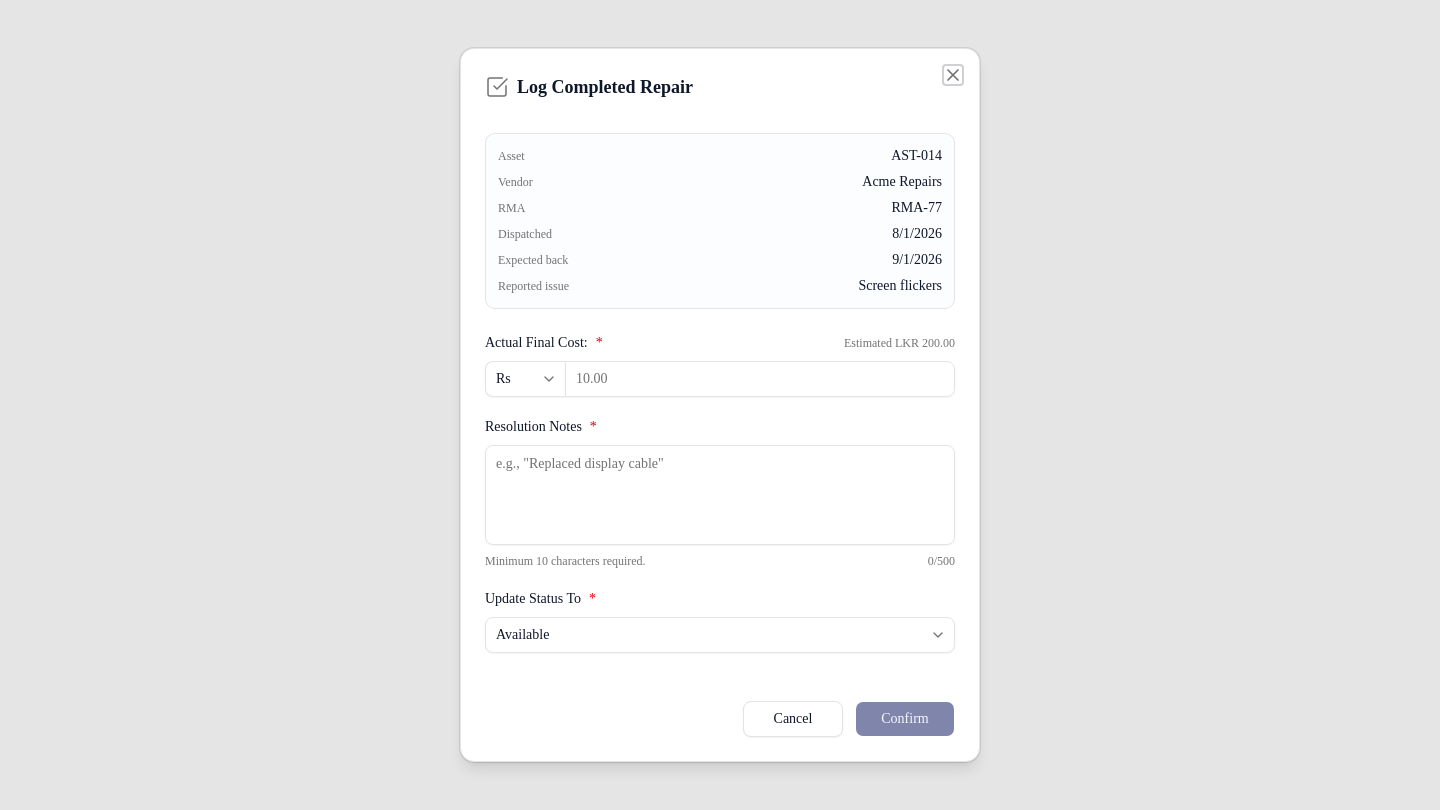
Test: LogCompleteRepairDialog › shows the ticket context and the variance against the estimate
Expected: the text "AST-014" is shown, [891, 146, 942, 166]
Expected: the text "Acme Repairs" is shown, [862, 172, 942, 192]
Step 1. Type "250" into the number field with placeholder "10.00" → point(760, 379), box [565, 361, 955, 397]
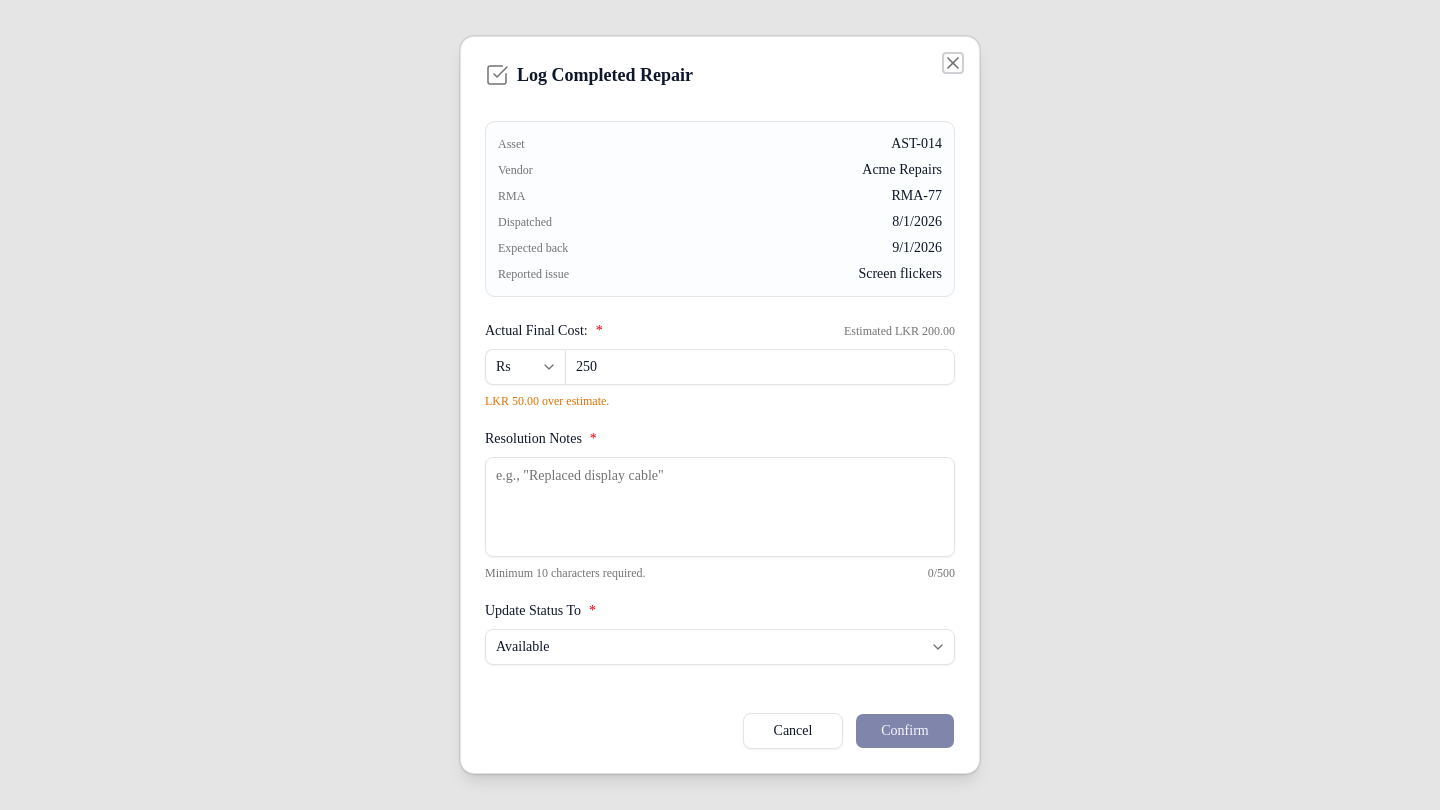
Result: the text "LKR 50.00 over estimate." is shown at [485, 394, 609, 408]
